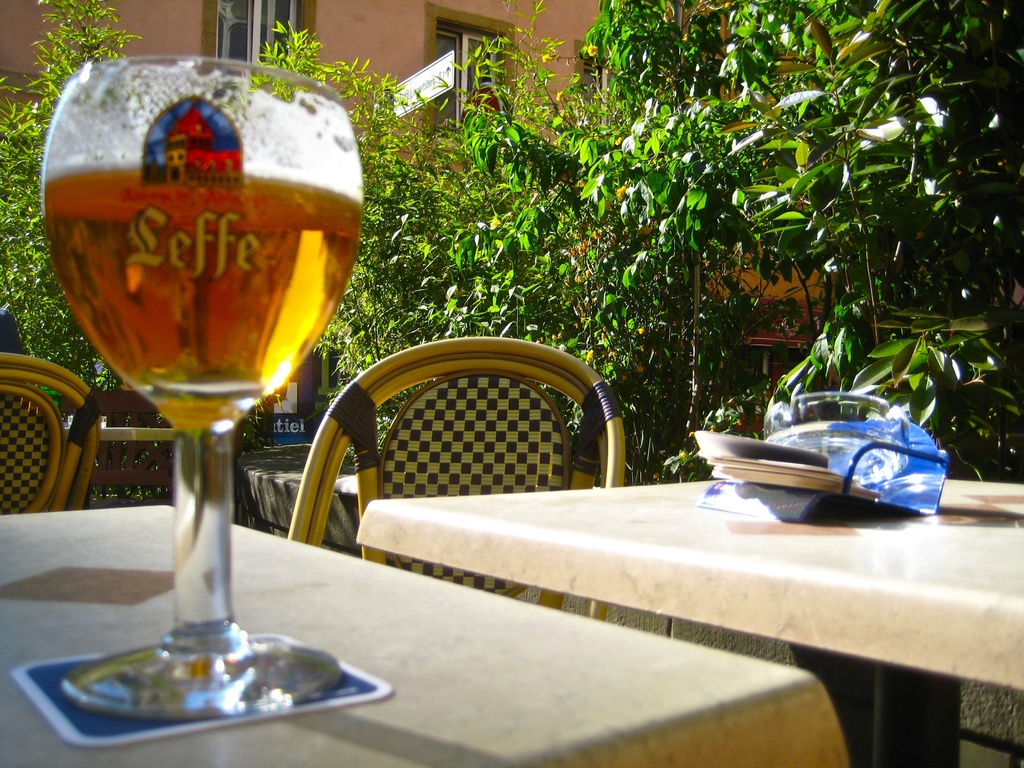Beer: (46, 144, 360, 437)
